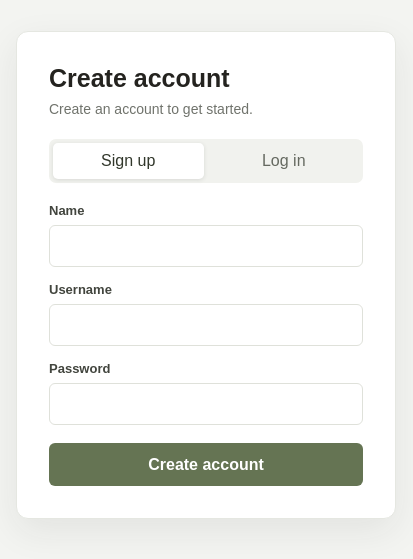
Scenario: App › shows API errors in the form
Type "Alex Morgan" into the field named "name" at (206, 246), box [49,225,363,267]
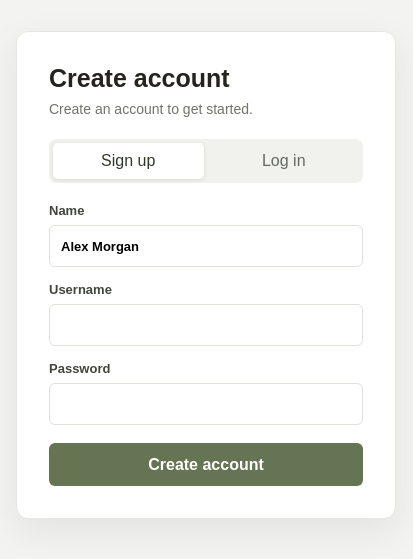
Type "alex" into the field named "username" at (206, 325), box [49,304,363,346]
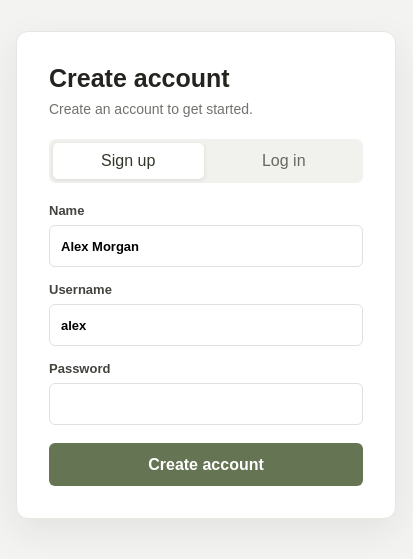
Type "secret123" into the password field named "password" at (206, 404), box [49,383,363,425]
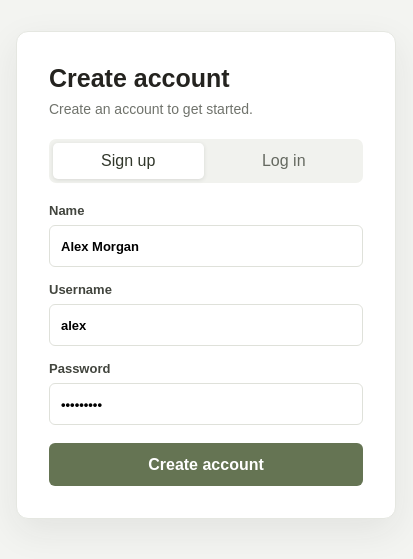
Submit the form, box [49,203,363,486]
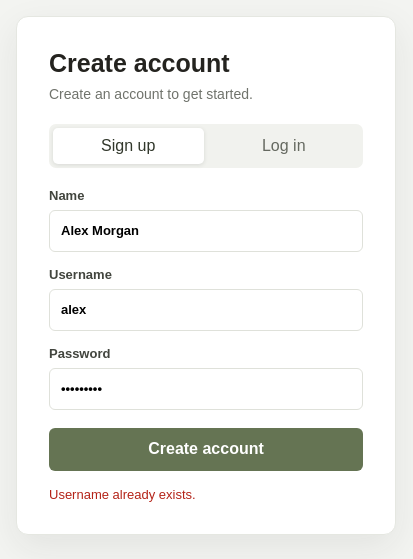
Result: the message "Username already exists." is shown at [49,486,196,502]
